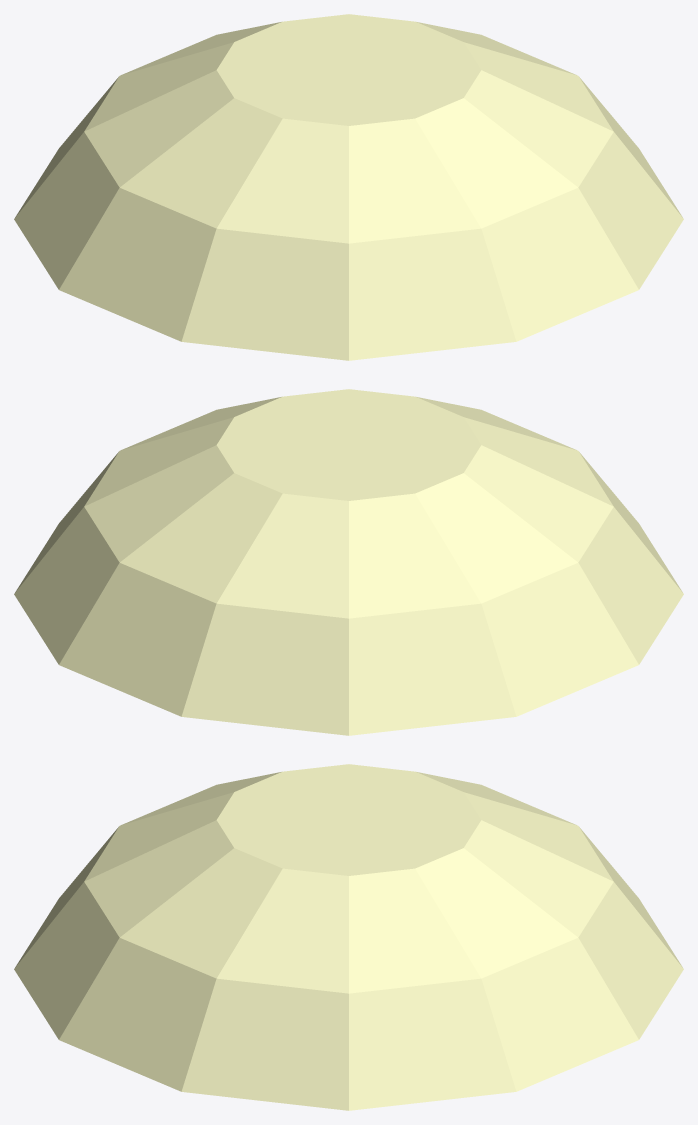
Rendered from Asian_Prop_Straw_Hat_03.FBX.
3 renders of one model, top to bottom at view 1: azimuth 30°, elevation 25°; view 2: azimuth 150°, elevation 25°; view 3: azimuth 270°, elevation 25°, orthographic.
Parts seen in each view (by area): view 1: Asian_Prop_Straw_Hat_03; view 2: Asian_Prop_Straw_Hat_03; view 3: Asian_Prop_Straw_Hat_03.
Boxes of the visible parts, x1,y1,x2,y2 form: Asian_Prop_Straw_Hat_03: (14, 14, 683, 360); Asian_Prop_Straw_Hat_03: (14, 389, 683, 735); Asian_Prop_Straw_Hat_03: (14, 764, 683, 1110).
Size of the model in its own units: 1380 by 339 by 1380.
